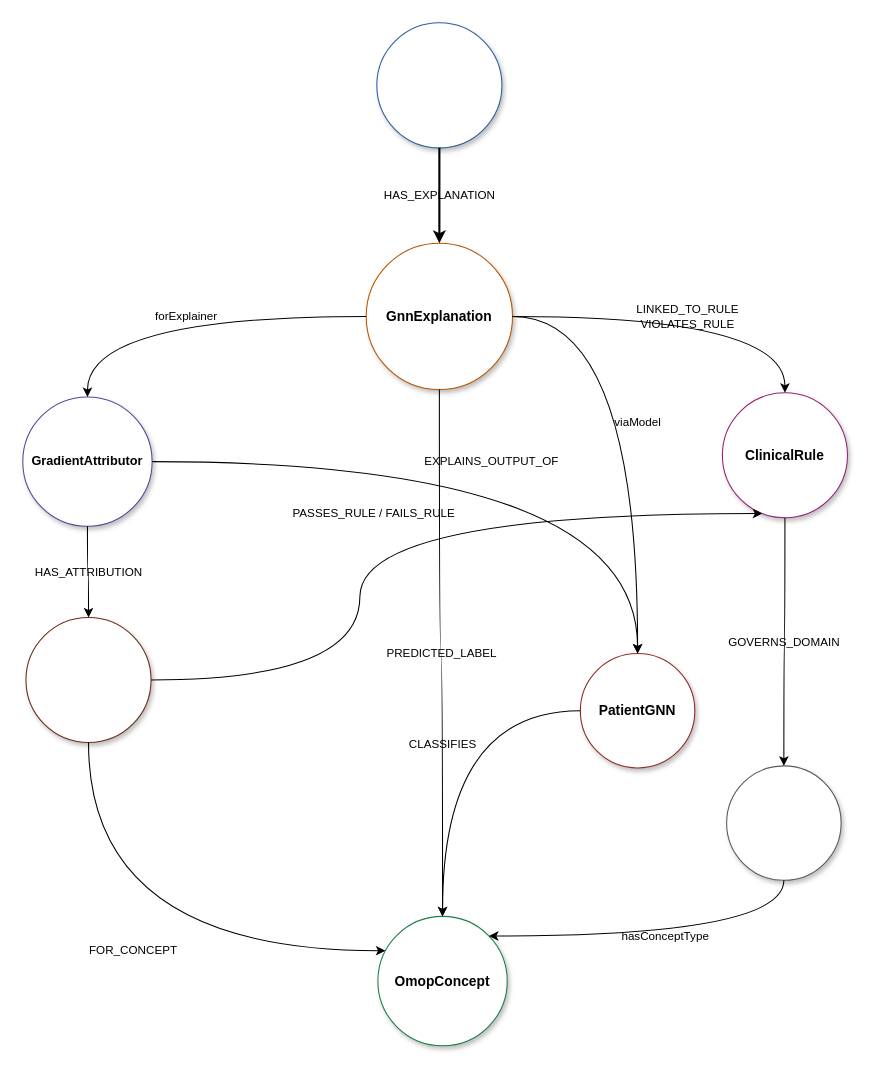
The diagram is 872 pixels wide and 1072 high, and some of its shapes have lost their labels. The centre of each missing label's shape, as x and y in pixels:
"ConceptAttribution" goes at point 89,681.
"OmopDomain" goes at point 784,824.
"Patient" goes at point 440,86.
